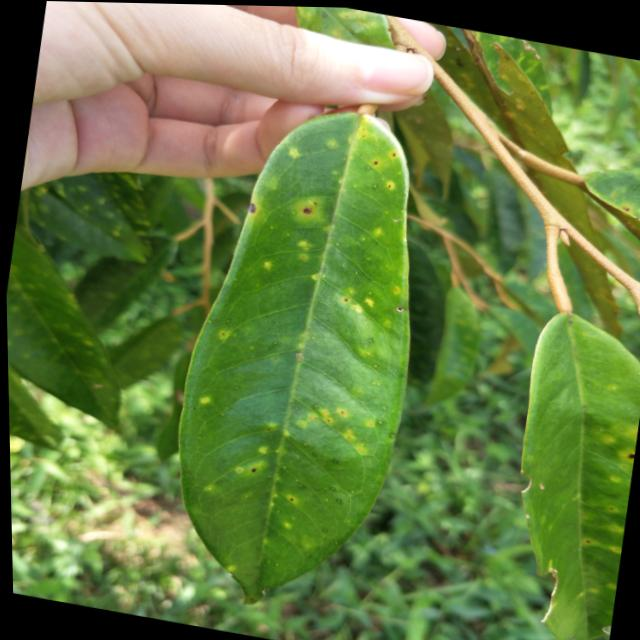Leaf Spot: (234, 393, 363, 523), (248, 220, 370, 302)
